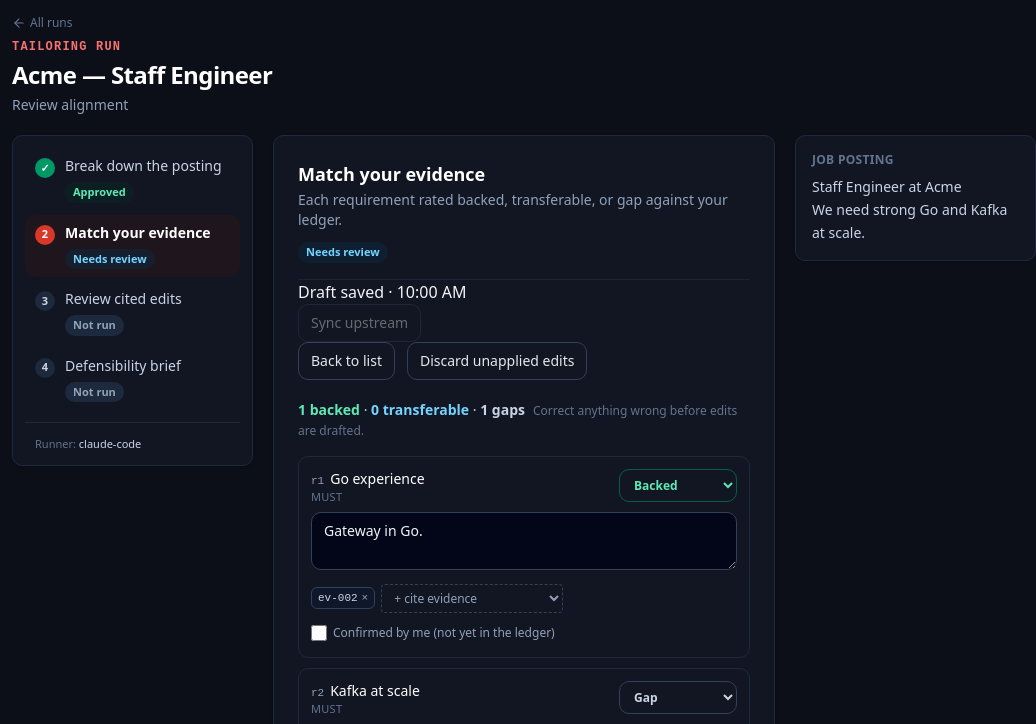
Test: Tailoring run workspace › shows evidence detail when a citation chip is clicked
This screenshot has width=1036, height=724.
Step 1. Click the button "ev-002" → click(338, 598), box [318,590,358,606]
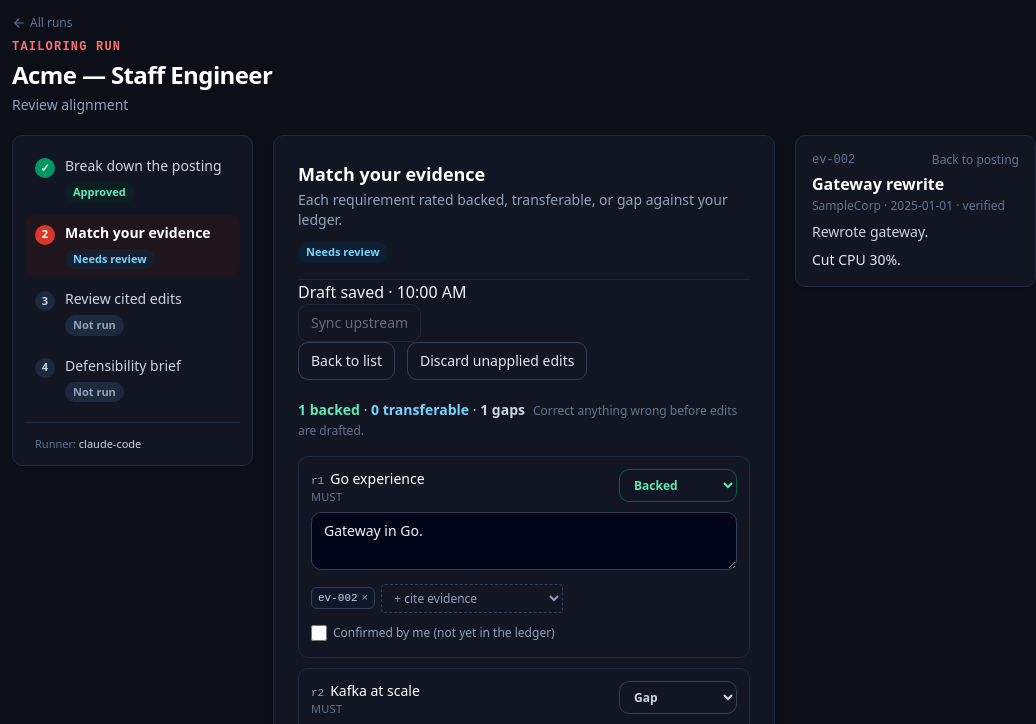
Check: the heading "Gateway rewrite" is shown, box [812,173,944,195]
